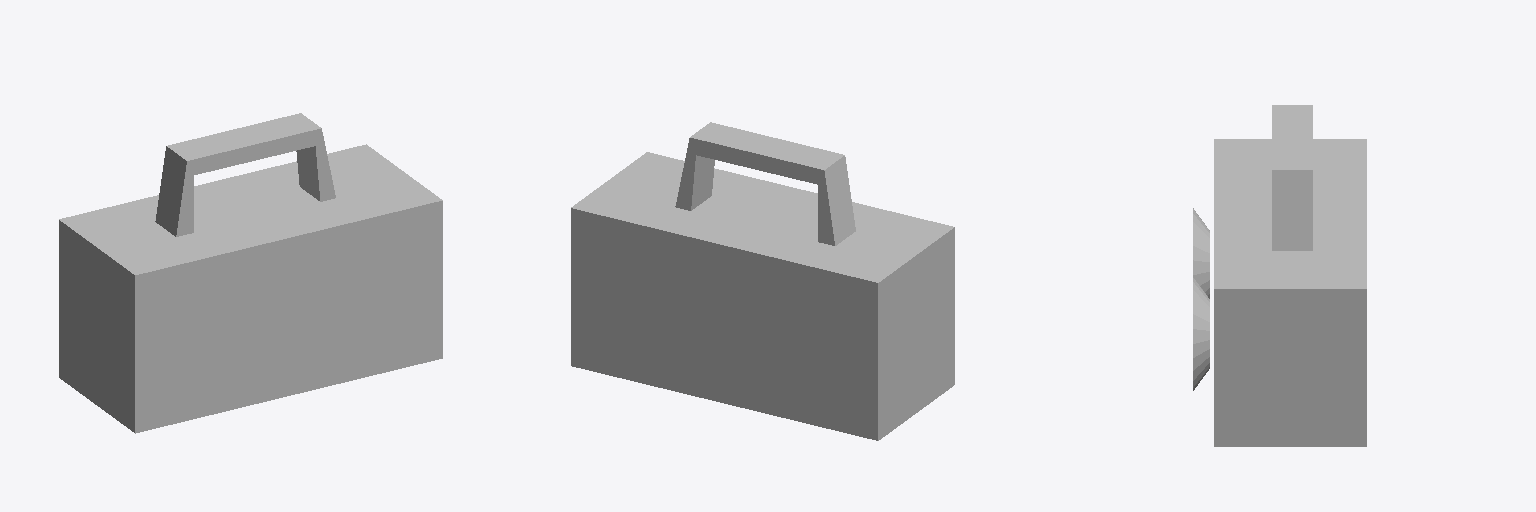
The model's file is Gethoblaster_BASE.obj.
The picture shows the model from 3 angles: view 1: azimuth 30°, elevation 25°; view 2: azimuth 150°, elevation 25°; view 3: azimuth 270°, elevation 25°; orthographic projection.
Visible parts, largest first — view 1: Box002, Cone001, Cone002; view 2: Box002; view 3: Box002, Cone002, Cone001.
Part boxes in pixels (x1,y1,x2,y2): Box002: (59,113,442,433); Cone001: (179,295,278,402); Cone002: (320,261,419,367); Box002: (571,122,954,440); Box002: (1214,105,1366,446); Cone002: (1193,277,1209,390); Cone001: (1193,208,1209,298).
Size of the model in its own units: 35.04 by 25.19 by 17.15.